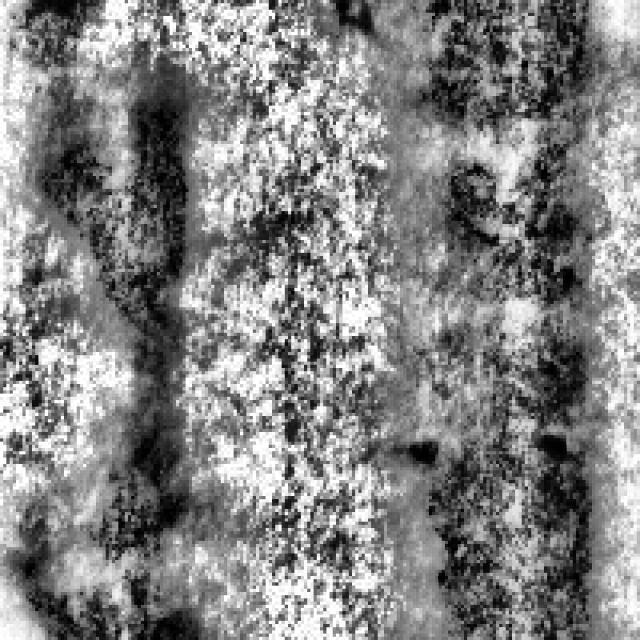Scratches: (403, 333, 592, 637), (20, 378, 198, 634), (29, 76, 189, 340), (420, 141, 604, 365), (397, 0, 605, 157)
